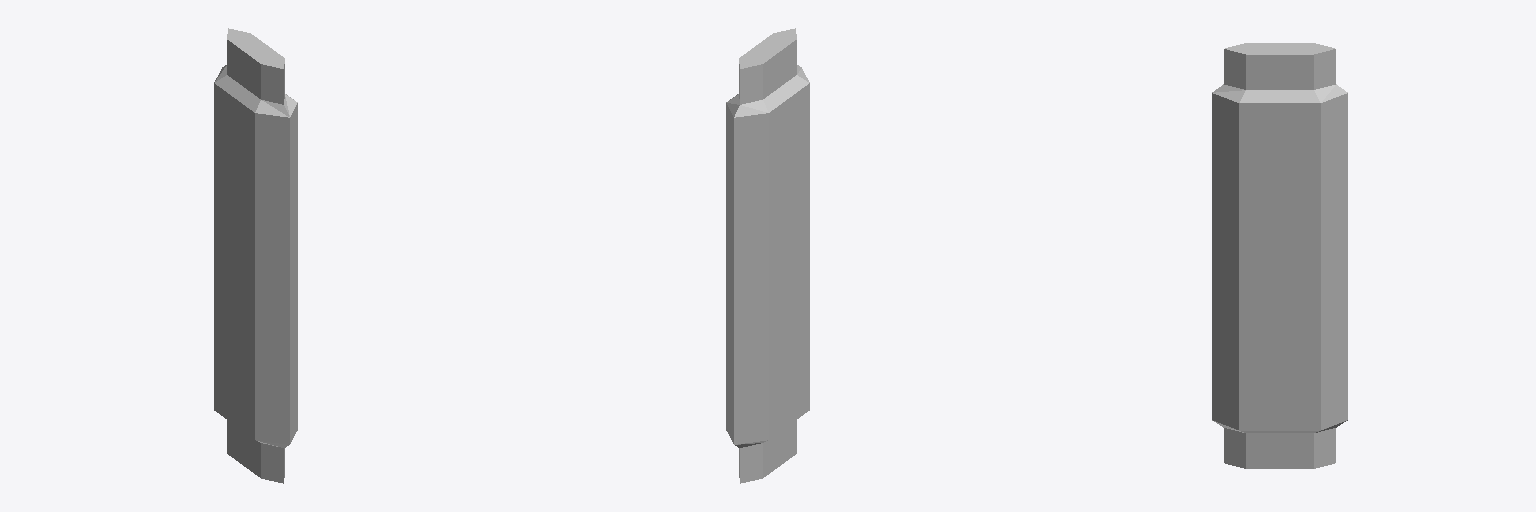
File: clothboltwhite.obj
3 views of the same model, side by side, from view 1: azimuth 30°, elevation 25°; view 2: azimuth 150°, elevation 25°; view 3: azimuth 270°, elevation 25° (orthographic).
Parts seen in each view (by area): view 1: clothboltwhite; view 2: clothboltwhite; view 3: clothboltwhite.
Part boxes in pixels (x1,y1,x2,y2): clothboltwhite: (214, 28, 297, 483); clothboltwhite: (726, 28, 809, 483); clothboltwhite: (1212, 43, 1347, 468).
Bounding box in the file's own units: 0.1402 × 1.3 × 0.3872.